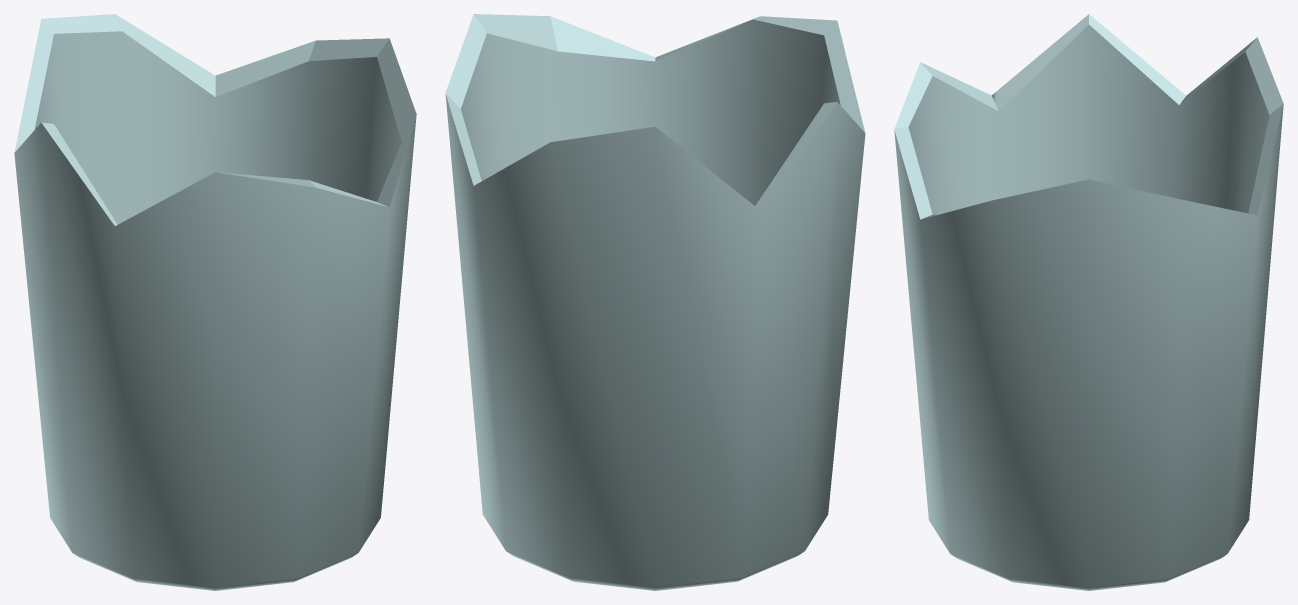
The model's file is GlassBroken.fbx.
The picture shows the model from 3 angles, left to right: view 1: azimuth 30°, elevation 25°; view 2: azimuth 150°, elevation 25°; view 3: azimuth 270°, elevation 25°; orthographic projection. The views are drawn at different scales.
Parts seen in each view (by area): view 1: GlassBroken; view 2: GlassBroken; view 3: GlassBroken.
Boxes of the visible parts, x1,y1,x2,y2 form: GlassBroken: [14, 14, 416, 590]; GlassBroken: [445, 14, 865, 590]; GlassBroken: [894, 14, 1283, 590].
Size of the model in its own units: 0.0803 by 0.102 by 0.0803.
